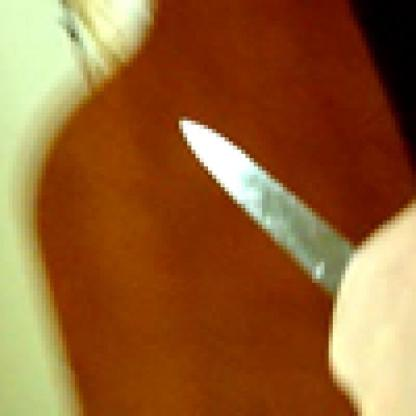Knife: (166, 112, 354, 300)
